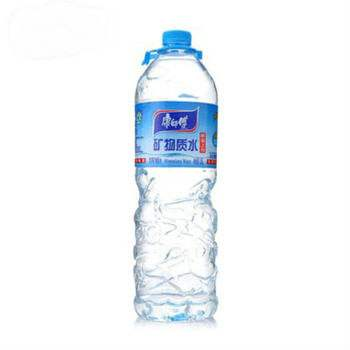amwater: (111, 22, 240, 330)
